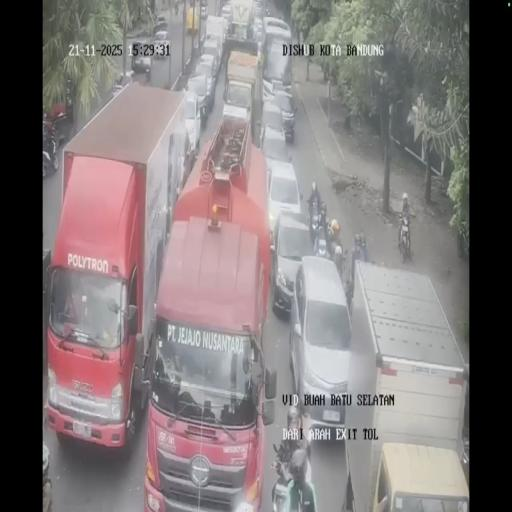car: (270, 210, 314, 316), (262, 17, 292, 76), (186, 72, 210, 127), (200, 38, 220, 78), (268, 78, 294, 108), (252, 16, 264, 48), (220, 2, 232, 27), (152, 20, 168, 38), (252, 0, 262, 18)
motorcycle: (397, 213, 412, 263), (42, 133, 57, 178), (331, 240, 345, 280), (308, 204, 321, 244)
truck: (46, 83, 194, 453), (336, 262, 468, 512)
